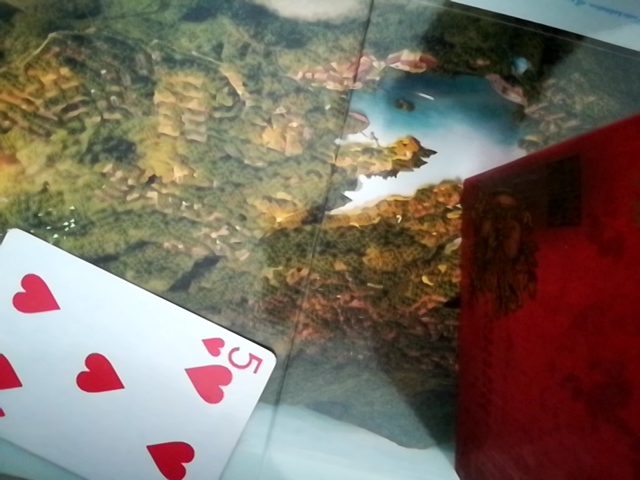hx 5: (0, 232, 277, 480)
